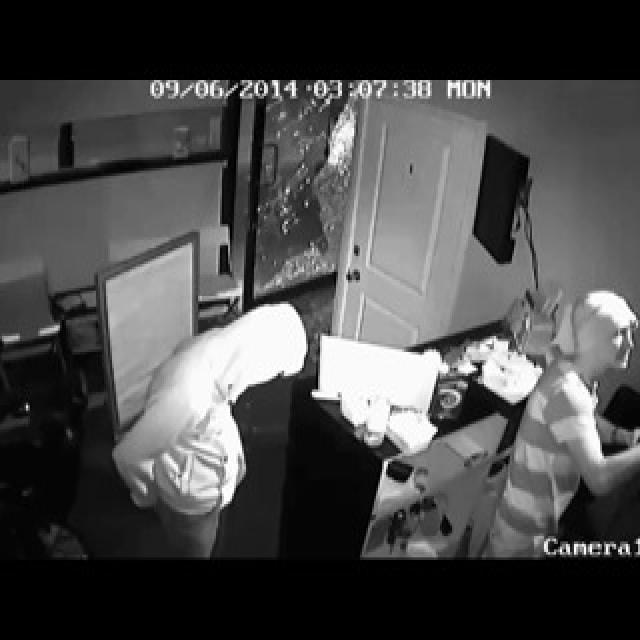thief: (132, 302, 293, 548), (516, 299, 640, 563)
